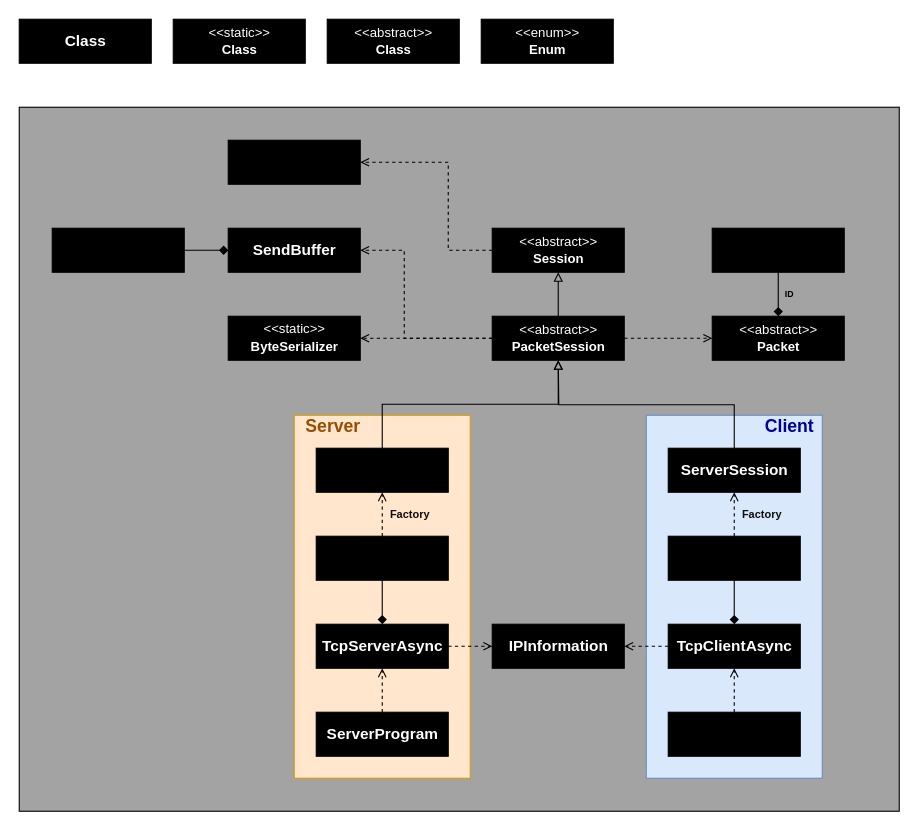
The diagram is 919 pixels wide and 831 high, and some of its shapes have lost their labels. The shapes that lost their labels are listed below. From the top down, each one's centre as x and y in pixels, then its label:
At pixel 293 161: "ReceiveBuffer".
At pixel 117 249: "<<static>> Factory".
At pixel 777 249: "<<enum>> PacketType".
At pixel 381 469: "ClientSession".
At pixel 381 557: "Listener".
At pixel 733 557: "Connector".
At pixel 733 733: "ClientProgram".
